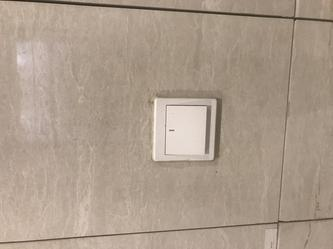switch: (164, 103, 211, 155)
